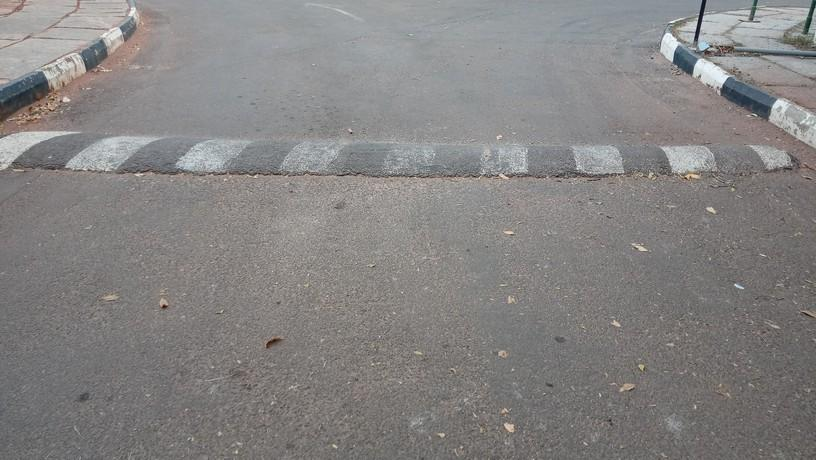speed-bump: (3, 120, 801, 173)
